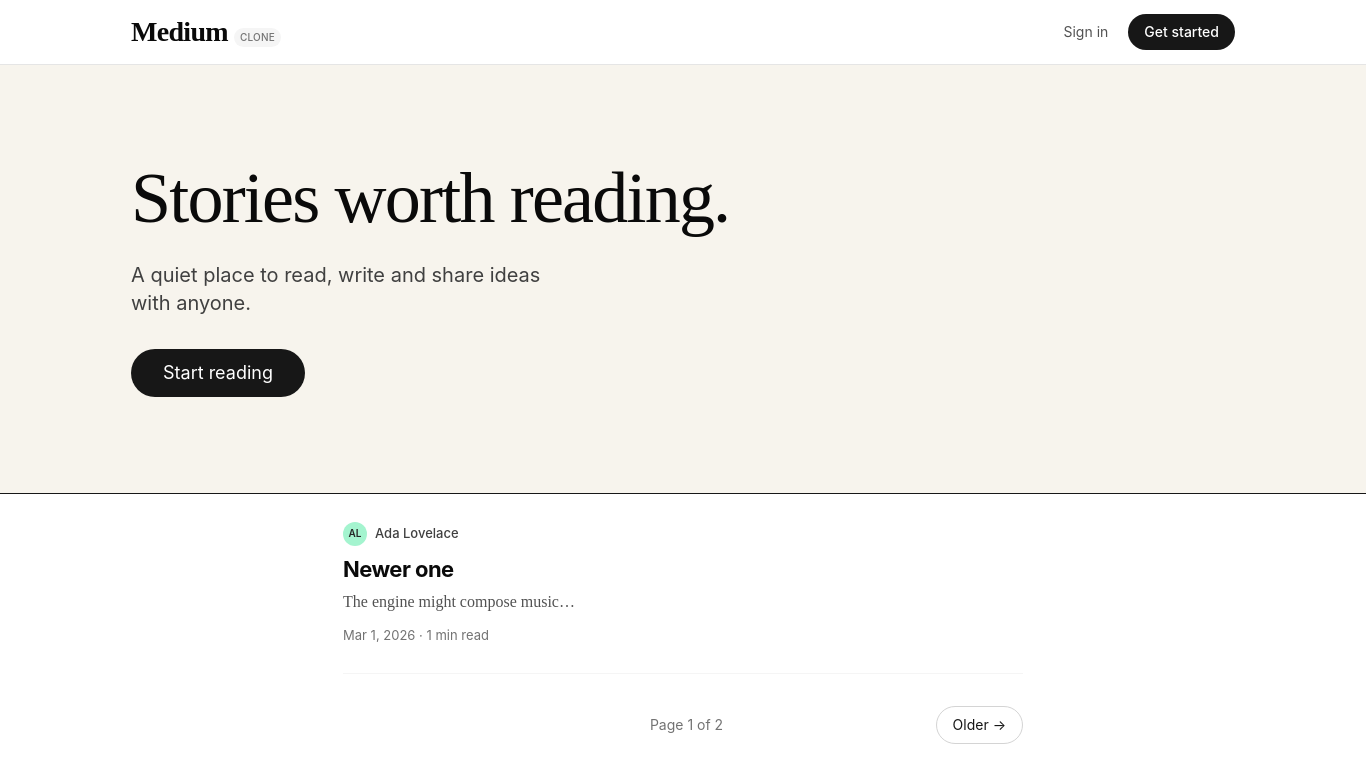
Test: home feed › paginates
Check: the heading "Newer one" is shown, box [343,556,454,582]
Click the button "Older →" at (979, 725), box [936,706,1023,744]
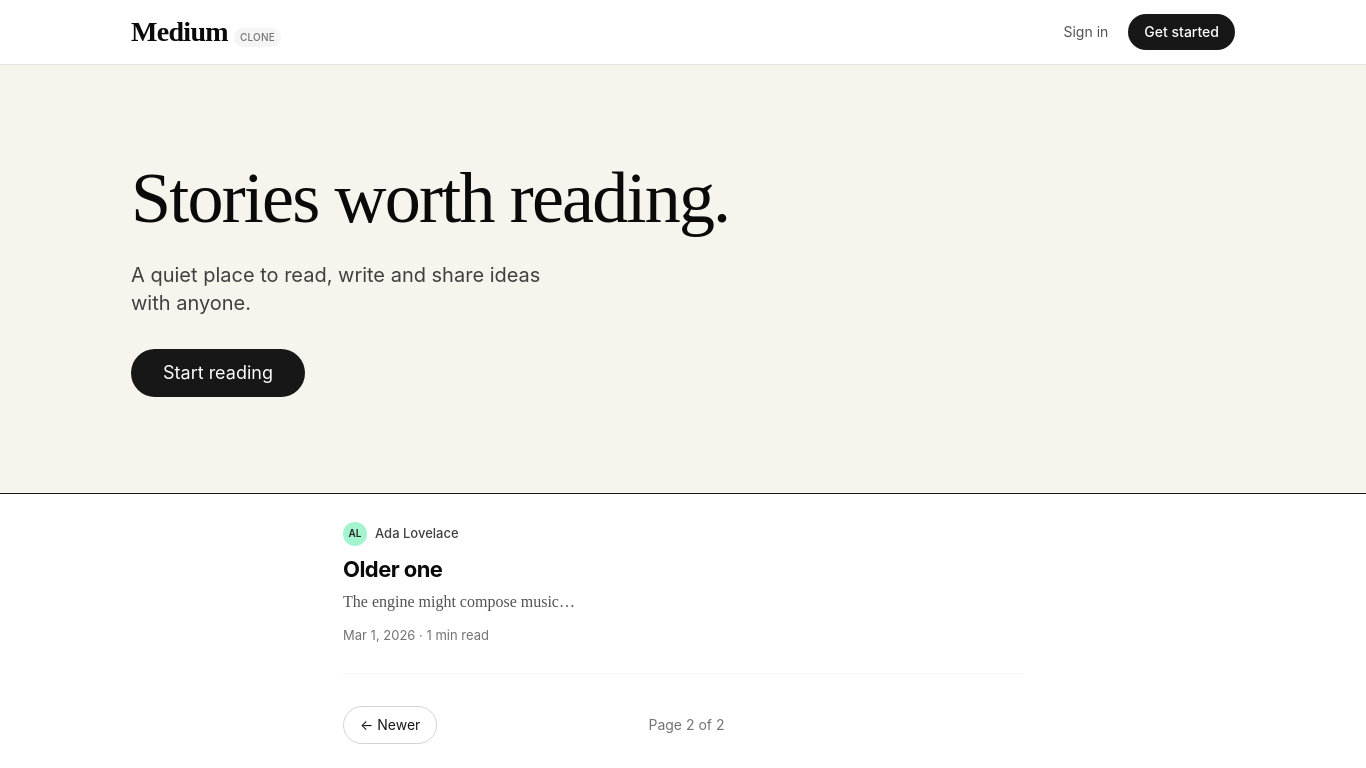
Check: the heading "Older one" is shown, box [343,556,442,582]
